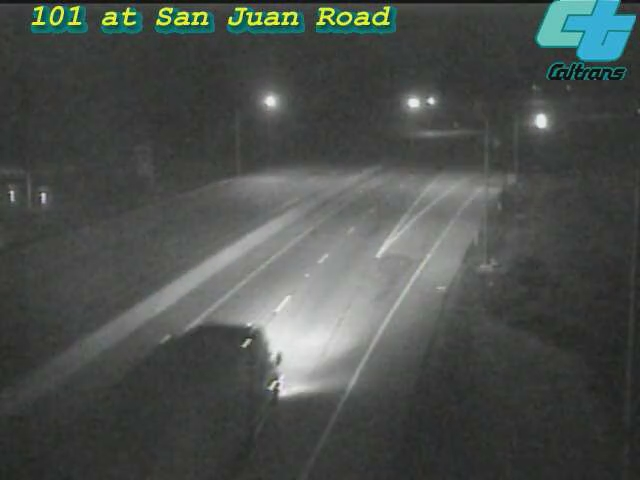vehicle: (152, 329, 262, 439), (517, 97, 567, 147)
